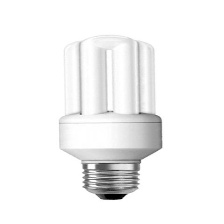light_bulb: (52, 30, 168, 206)
